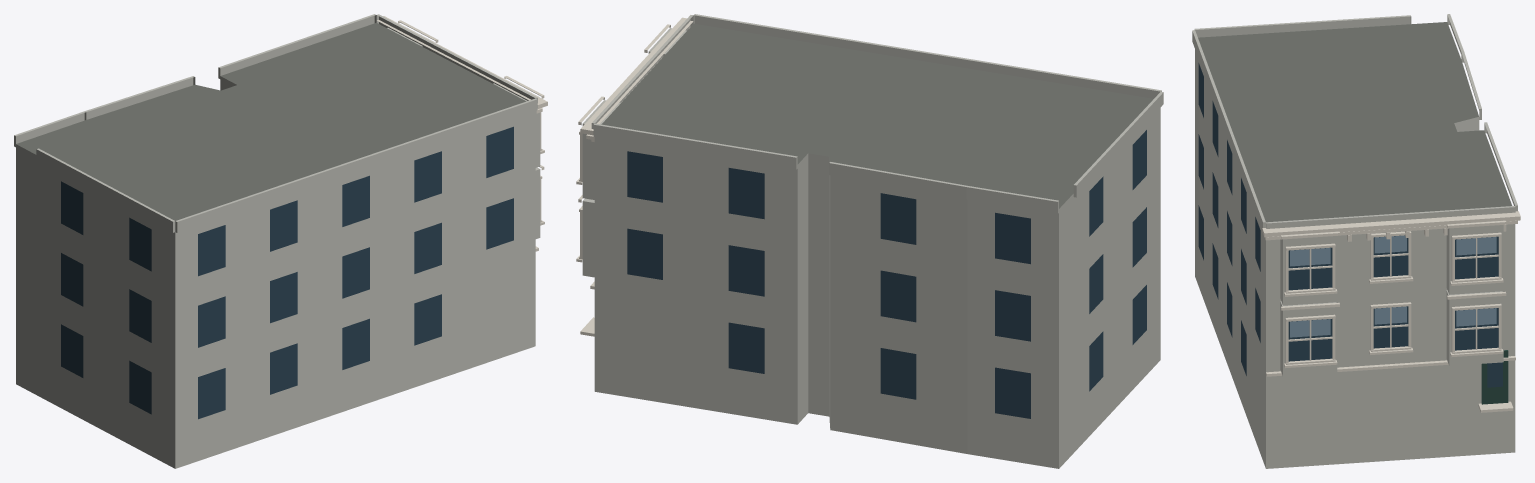
3 renders of one model, left to right at view 1: azimuth 30°, elevation 25°; view 2: azimuth 150°, elevation 25°; view 3: azimuth 270°, elevation 25°, orthographic. The views are drawn at different scales.
Parts seen in each view (by area): view 1: Footprint 0 / surface 2, Footprint 0 / surface 1, Inset glazing, Facade bay volumes, Cornices and window frames; view 2: Footprint 0 / surface 2, Footprint 0 / surface 1, Inset glazing, Facade bay volumes, Cornices and window frames; view 3: Footprint 0 / surface 2, Footprint 0 / surface 1, Facade bay volumes, Cornices and window frames, Inset glazing, Sky reflection panels, Storefronts and doors.
Boxes of the visible parts, x1,y1,x2,y2 form: Footprint 0 / surface 2: (16, 76, 535, 468); Footprint 0 / surface 1: (16, 23, 526, 220); Inset glazing: (61, 126, 513, 419); Facade bay volumes: (14, 14, 540, 238); Cornices and window frames: (377, 16, 547, 251); Footprint 0 / surface 2: (594, 108, 1160, 468); Footprint 0 / surface 1: (601, 23, 1153, 208); Inset glazing: (627, 130, 1146, 418); Facade bay volumes: (582, 14, 1163, 277); Cornices and window frames: (576, 17, 693, 336); Footprint 0 / surface 2: (1195, 49, 1515, 468); Footprint 0 / surface 1: (1198, 22, 1512, 222); Facade bay volumes: (1192, 14, 1517, 376); Cornices and window frames: (1262, 211, 1520, 412); Inset glazing: (1198, 63, 1502, 387); Sky reflection panels: (1290, 235, 1496, 337); Storefronts and doors: (1481, 350, 1508, 404).
Bounding box in the file's own units: 21.08 × 11.15 × 13.46.
